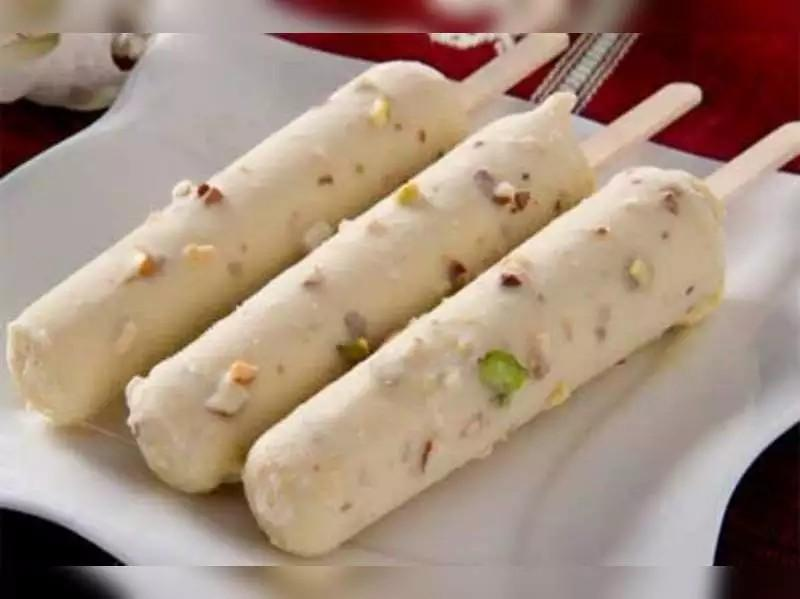Kulfi: (242, 168, 730, 558), (127, 104, 598, 496), (7, 61, 469, 418)
